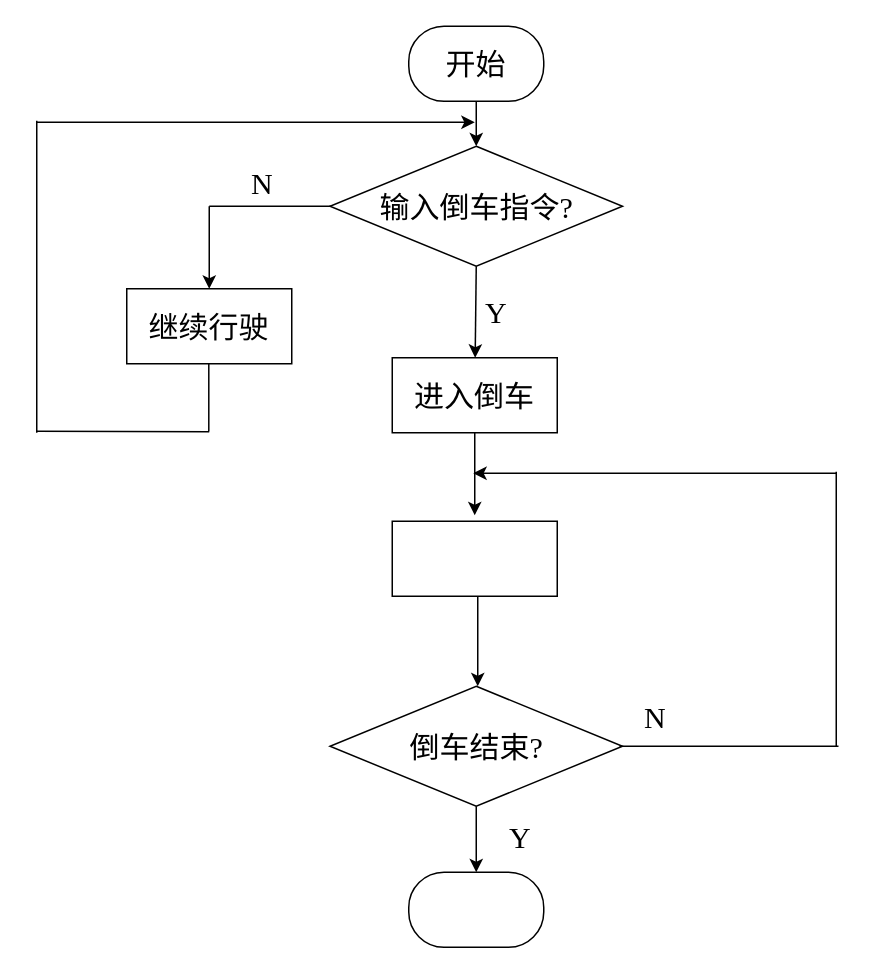
This 875x974 diagram has some shape labels left out. The shapes that lost their labels are listed below. From the top down, each one's centre as x and y in pixels, then its label:
[474,558]: 反馈信息
[475,909]: 结束
